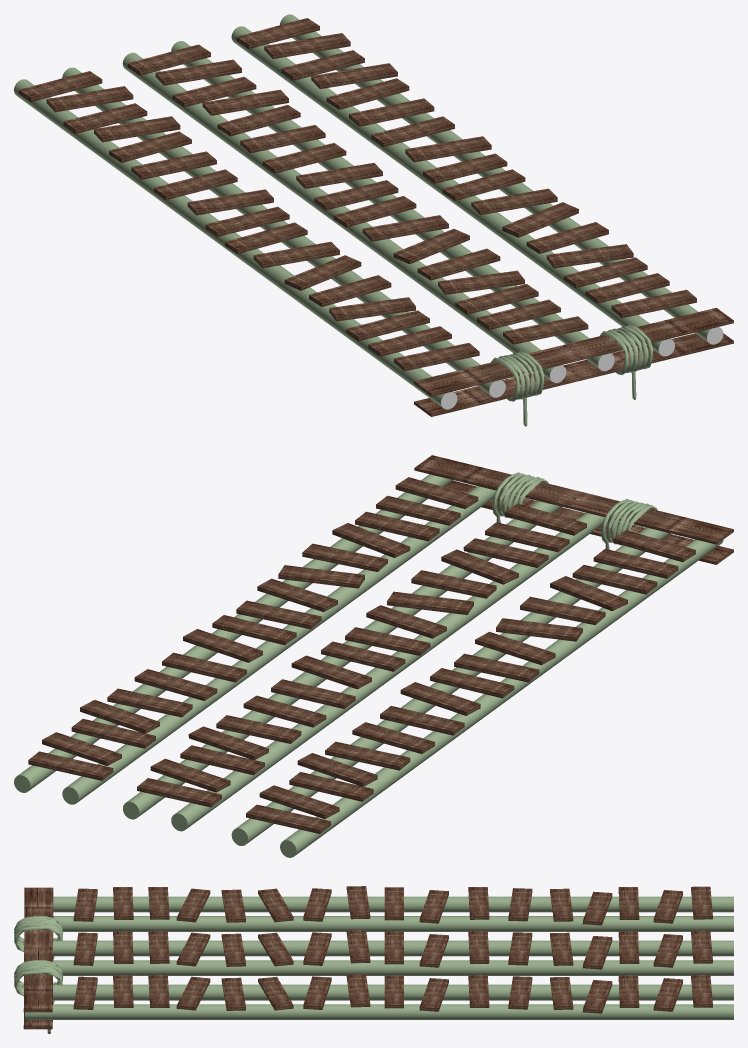
File: bridge_v031_connector_v003B.fbx
The picture shows the model from 3 angles, top to bottom: view 1: azimuth 30°, elevation 25°; view 2: azimuth 150°, elevation 25°; view 3: azimuth 270°, elevation 25°; orthographic projection. The views are drawn at different scales.
Visible parts, largest first — view 1: 3_straight_LaL, 3_straight_LaR, 3_straight_LaM, 3_straight_verschlag, 3_straight_La4, 3_straight_La16, 3_straight_La10, 3_straight_La14, 3_straight_La7, 3_straight_La12, 3_straight_La1, 3_straight_La9 (+10 smaller); view 2: 3_straight_LaL, 3_straight_LaR, 3_straight_LaM, 3_straight_verschlag, 3_straight_La6, 3_straight_La5, 3_straight_La8, 3_straight_La13, 3_straight_La3, 3_straight_La17, 3_straight_La11, 3_straight_La15 (+10 smaller); view 3: 3_straight_LaR, 3_straight_LaL, 3_straight_LaM, 3_straight_verschlag, 3_straight_La6, 3_straight_La4, 3_straight_La14, 3_straight_La10, 3_straight_La16, 3_straight_La7, 3_straight_La12, 3_straight_La1 (+10 smaller).
Boxes of the visible parts, x1=… form: 3_straight_LaL: x1=14, y1=67, x2=505, y2=409; 3_straight_LaR: x1=231, y1=14, x2=723, y2=356; 3_straight_LaM: x1=122, y1=41, x2=614, y2=382; 3_straight_verschlag: x1=414, y1=308, x2=733, y2=416; 3_straight_La4: x1=329, y1=244, x2=633, y2=321; 3_straight_La16: x1=46, y1=33, x2=350, y2=112; 3_straight_La10: x1=187, y1=136, x2=491, y2=215; 3_straight_La14: x1=94, y1=63, x2=397, y2=142; 3_straight_La7: x1=253, y1=188, x2=557, y2=268; 3_straight_La12: x1=131, y1=98, x2=434, y2=179; 3_straight_La1: x1=394, y1=289, x2=696, y2=371; 3_straight_La9: x1=205, y1=153, x2=507, y2=236; 3_straight_LaL: x1=231, y1=527, x2=723, y2=857; 3_straight_LaR: x1=14, y1=474, x2=500, y2=804; 3_straight_LaM: x1=123, y1=501, x2=609, y2=831; 3_straight_verschlag: x1=414, y1=455, x2=733, y2=564; 3_straight_La6: x1=278, y1=565, x2=582, y2=641; 3_straight_La5: x1=302, y1=543, x2=605, y2=625; 3_straight_La8: x1=236, y1=600, x2=539, y2=682; 3_straight_La13: x1=107, y1=688, x2=410, y2=770; 3_straight_La3: x1=355, y1=511, x2=657, y2=594; 3_straight_La17: x1=28, y1=751, x2=330, y2=833; 3_straight_La11: x1=162, y1=652, x2=464, y2=735; 3_straight_La15: x1=71, y1=719, x2=373, y2=801; 3_straight_LaR: x1=25, y1=984, x2=733, y2=1019; 3_straight_LaL: x1=53, y1=896, x2=733, y2=931; 3_straight_LaM: x1=53, y1=940, x2=733, y2=975; 3_straight_verschlag: x1=23, y1=887, x2=53, y2=1029; 3_straight_La6: x1=258, y1=888, x2=293, y2=1010; 3_straight_La4: x1=176, y1=888, x2=210, y2=1010; 3_straight_La14: x1=582, y1=891, x2=612, y2=1013; 3_straight_La10: x1=419, y1=890, x2=448, y2=1011; 3_straight_La16: x1=653, y1=890, x2=682, y2=1011; 3_straight_La7: x1=303, y1=888, x2=331, y2=1009; 3_straight_La12: x1=508, y1=888, x2=532, y2=1009; 3_straight_La1: x1=73, y1=888, x2=97, y2=1009.
Size of what is drawn, in the model's own units: 50.72 by 12.03 by 124.
Materials: 3 (1 with a texture image).
